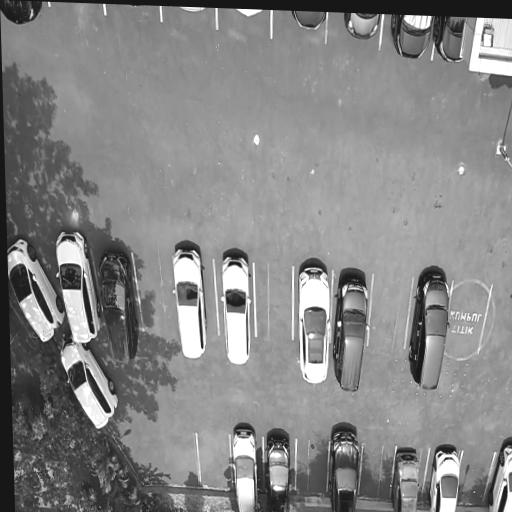Car: (54, 335, 123, 436), (7, 236, 68, 346), (405, 259, 452, 399), (49, 228, 105, 345), (93, 243, 146, 365), (294, 258, 335, 391), (332, 267, 372, 401), (171, 240, 212, 362), (220, 241, 253, 369), (330, 422, 363, 512), (426, 436, 464, 512), (263, 423, 294, 512), (231, 422, 261, 512), (390, 14, 435, 62), (393, 440, 422, 512), (0, 0, 45, 43), (489, 435, 512, 512), (432, 16, 467, 66), (344, 13, 381, 39), (291, 11, 328, 36)
Space Available: (446, 279, 493, 356), (133, 253, 179, 330), (254, 261, 293, 344), (371, 273, 413, 348), (481, 285, 512, 362), (458, 447, 495, 507), (197, 434, 234, 493), (297, 437, 330, 500), (359, 445, 394, 504)
